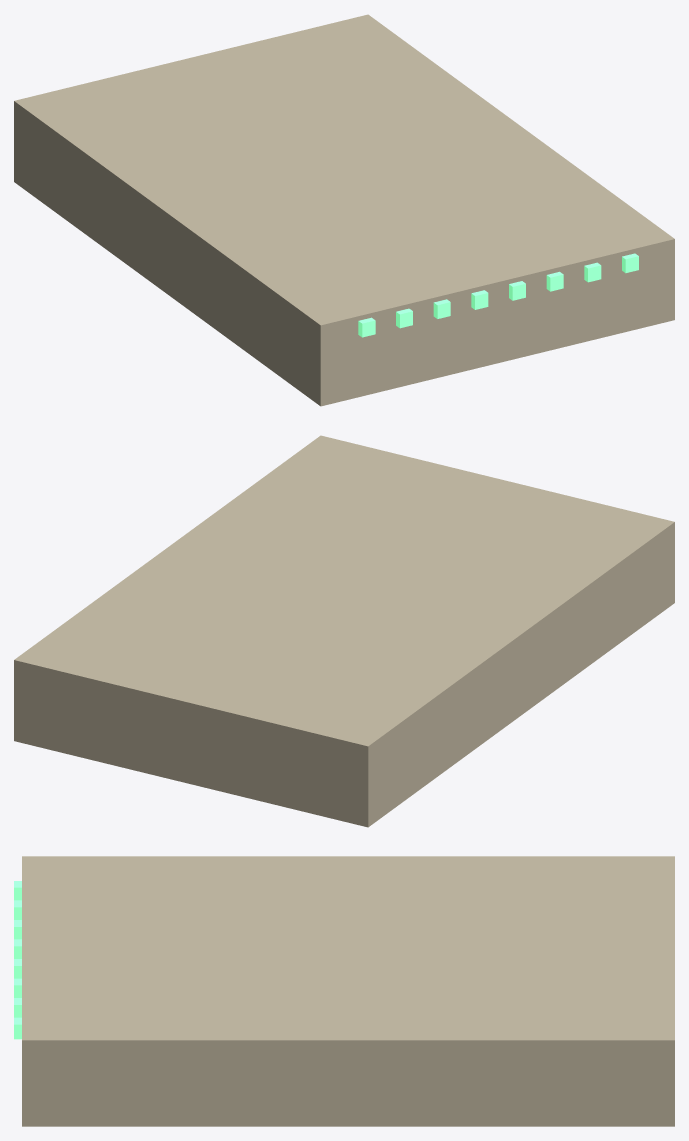
File: modem-300.glb
3 views of the same model, one above another, from view 1: azimuth 30°, elevation 25°; view 2: azimuth 150°, elevation 25°; view 3: azimuth 270°, elevation 25° (orthographic). The views are drawn at different scales.
Visible parts, largest first — view 1: kit-modem-0.3; view 2: kit-modem-0.3; view 3: kit-modem-0.3.
Boxes of the visible parts, bbox=[...] form: kit-modem-0.3: bbox=[14, 14, 674, 406]; kit-modem-0.3: bbox=[14, 435, 674, 827]; kit-modem-0.3: bbox=[22, 856, 674, 1126].
Bounding box in the file's own units: 0.16 × 0.035 × 0.243.
